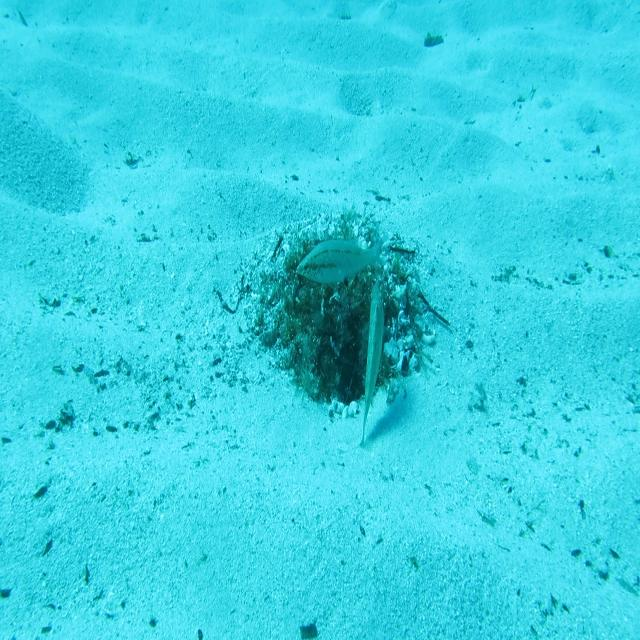GB: (357, 281, 392, 450)
core_nest: (322, 254, 365, 296)
female: (295, 233, 387, 287)
nest: (232, 197, 443, 436)
vegetation: (423, 32, 447, 50), (298, 621, 320, 640)
